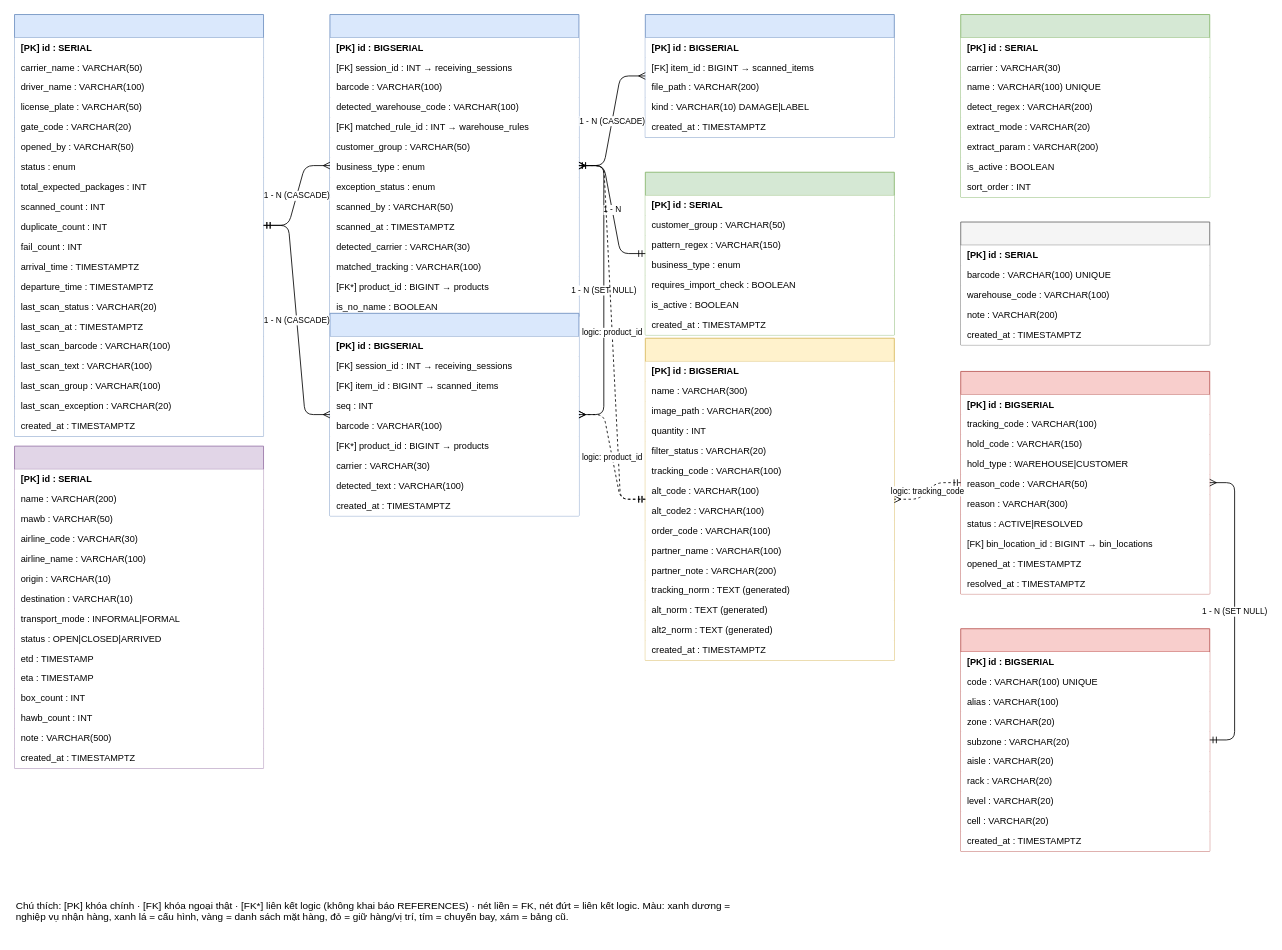
This 1282x950 diagram has some shape labels left out. The shapes that lost their labels are listed below. From the top down, each one's box as (x1, y1, x2, y2) in pixels, then its label:
(644, 14, 894, 137): item_photos
(960, 14, 1210, 197): tracking_formats
(329, 14, 579, 317): scanned_items
(14, 14, 264, 436): receiving_sessions
(644, 171, 894, 335): warehouse_rules
(960, 221, 1210, 345): tracking_codes
(329, 312, 579, 516): label_scans
(644, 337, 894, 660): products
(960, 371, 1210, 594): holds
(14, 445, 264, 768): flights
(960, 628, 1210, 851): bin_locations
